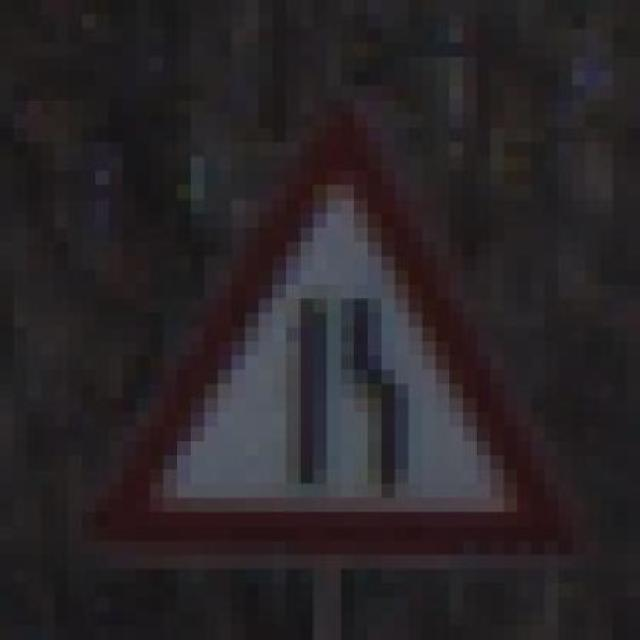-Road narrows on right: (96, 71, 586, 555)
